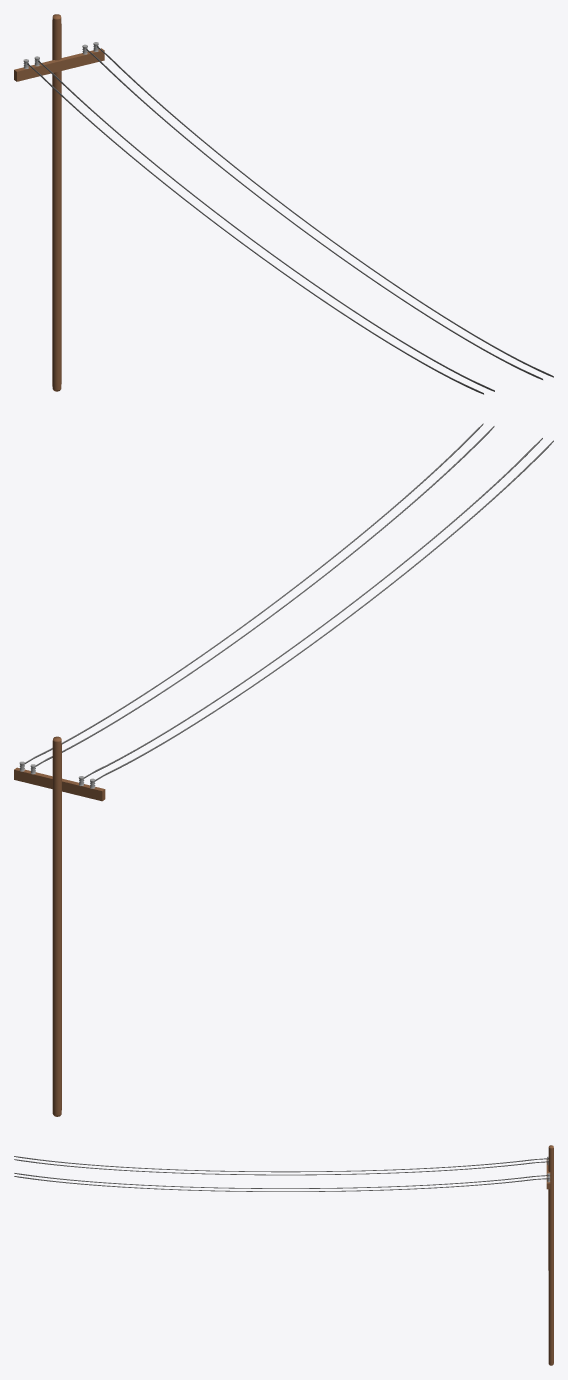
Rendered from TelephonePole.fbx.
3 renders of one model, top to bottom at view 1: azimuth 30°, elevation 25°; view 2: azimuth 150°, elevation 25°; view 3: azimuth 270°, elevation 25°, orthographic. The views are drawn at different scales.
Parts seen in each view (by area): view 1: TelephonePole; view 2: TelephonePole; view 3: TelephonePole.
Part boxes in pixels (x1,y1,x2,y2): TelephonePole: [14, 14, 553, 394]; TelephonePole: [14, 423, 553, 1116]; TelephonePole: [14, 1145, 553, 1365].
Bounding box in the file's own units: 4.45 × 18.15 × 40.66.
